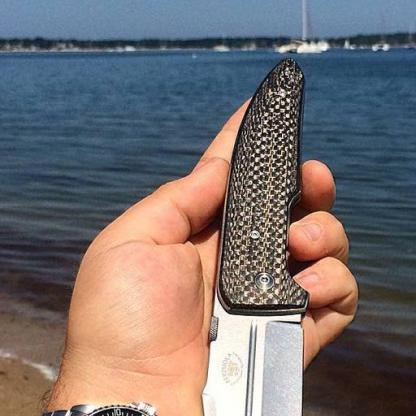knife: (195, 57, 315, 415)
